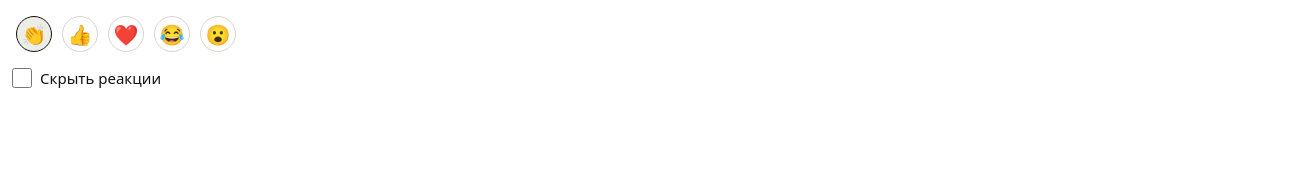
Test: ephemeral reactions and sound controls › offers every agreed reaction and dismisses an independent reaction error
Step 1. Click the button named "Реакция — 👏" → (34, 34), box [12,12,56,56]
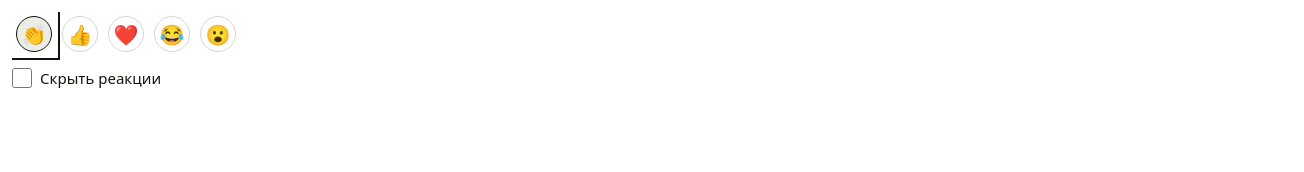
Step 2. Click the button "👍" → (80, 34), box [58,12,102,56]
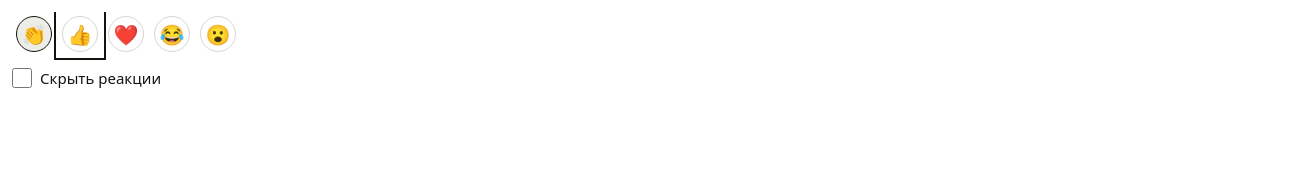
Step 3. Click the button "❤️" → (126, 34), box [104,12,148,56]
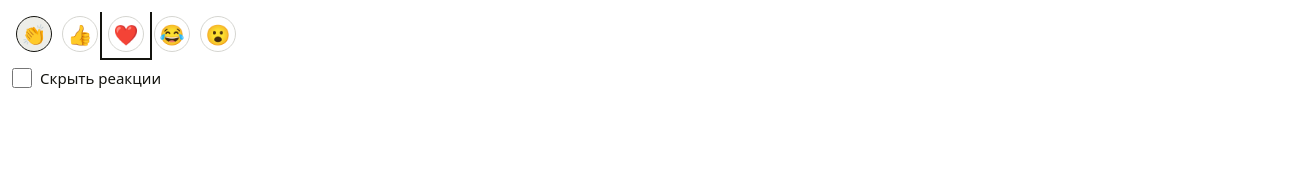
Step 4. Click the button "😂" → (172, 34), box [150,12,194,56]
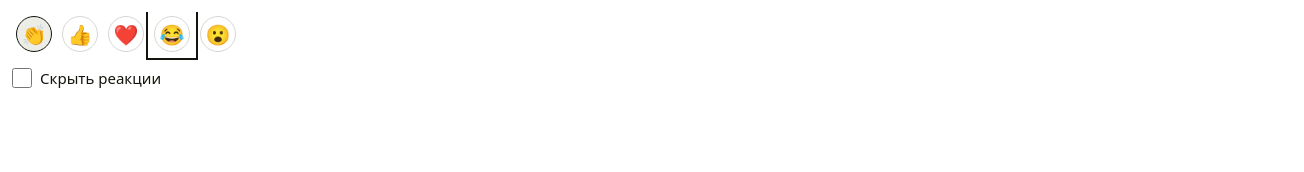
Step 5. Click the button "😮" → (218, 34), box [196,12,240,56]
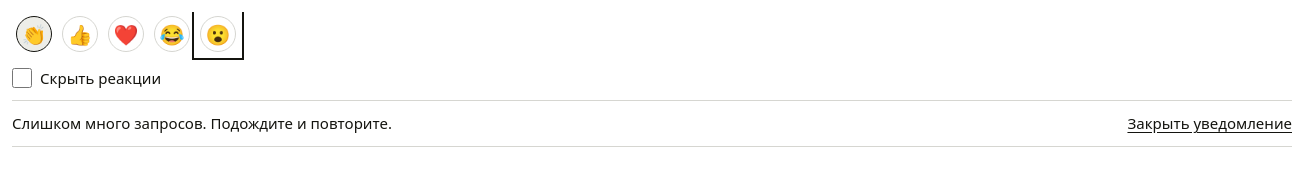
Expected: the message shows "Слишком много запросов", [12,113,392,133]
Step 6. Click the button "Закрыть уведомление" → (1210, 124), box [1128,113,1292,134]
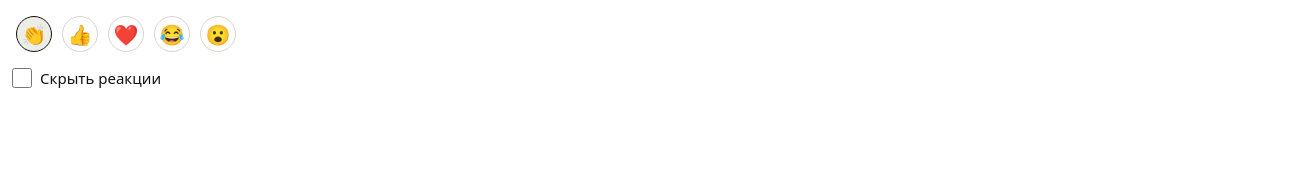
Expected: the message "Слишком много запросов. Подождите и повторите. Закрыть уведомление" is gone
